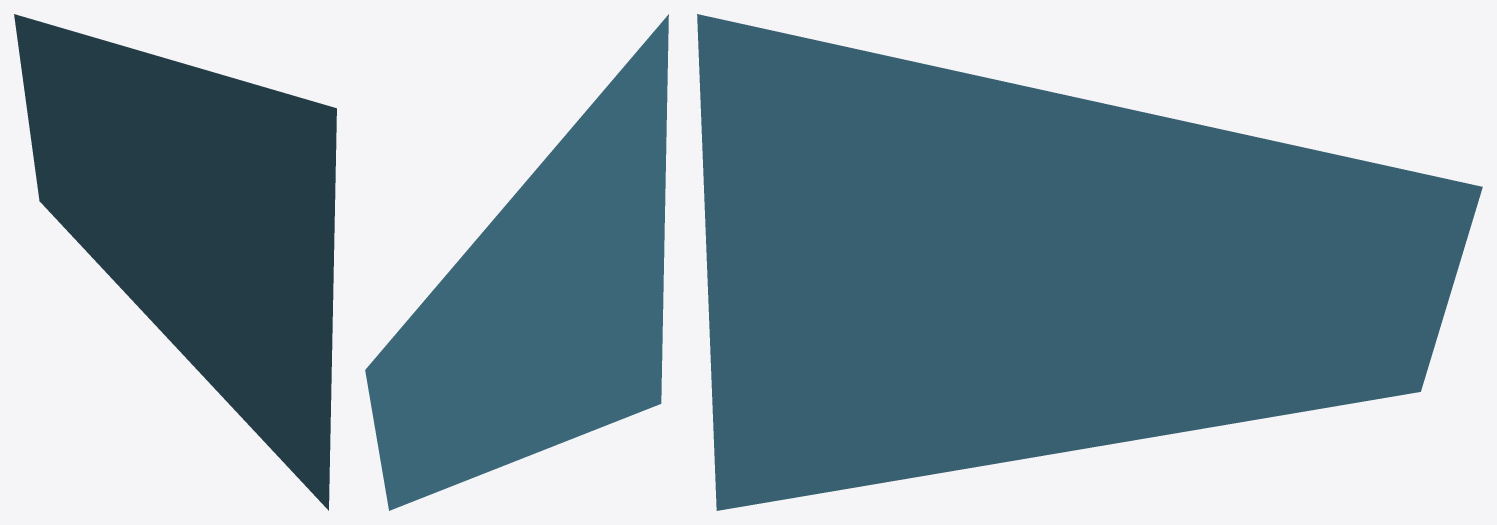
The model's file is NexusC_Cloth_32.fbx.
3 views of the same model, side by side, from view 1: azimuth 30°, elevation 25°; view 2: azimuth 150°, elevation 25°; view 3: azimuth 270°, elevation 25° (orthographic). The views are drawn at different scales.
Visible parts, largest first — view 1: polySurface23; view 2: polySurface23; view 3: polySurface23.
Part boxes in pixels (x1,y1,x2,y2): polySurface23: (14,14,336,510); polySurface23: (365,14,668,510); polySurface23: (697,14,1482,510).
Bounding box in the file's own units: 0 × 23.18 × 33.21.
